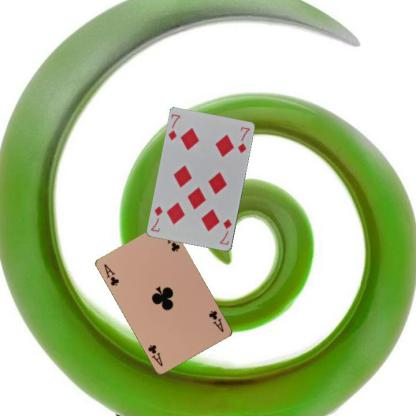7d: (217, 217, 233, 246), (166, 112, 181, 141)
Ac: (207, 308, 226, 333), (102, 261, 120, 287)
